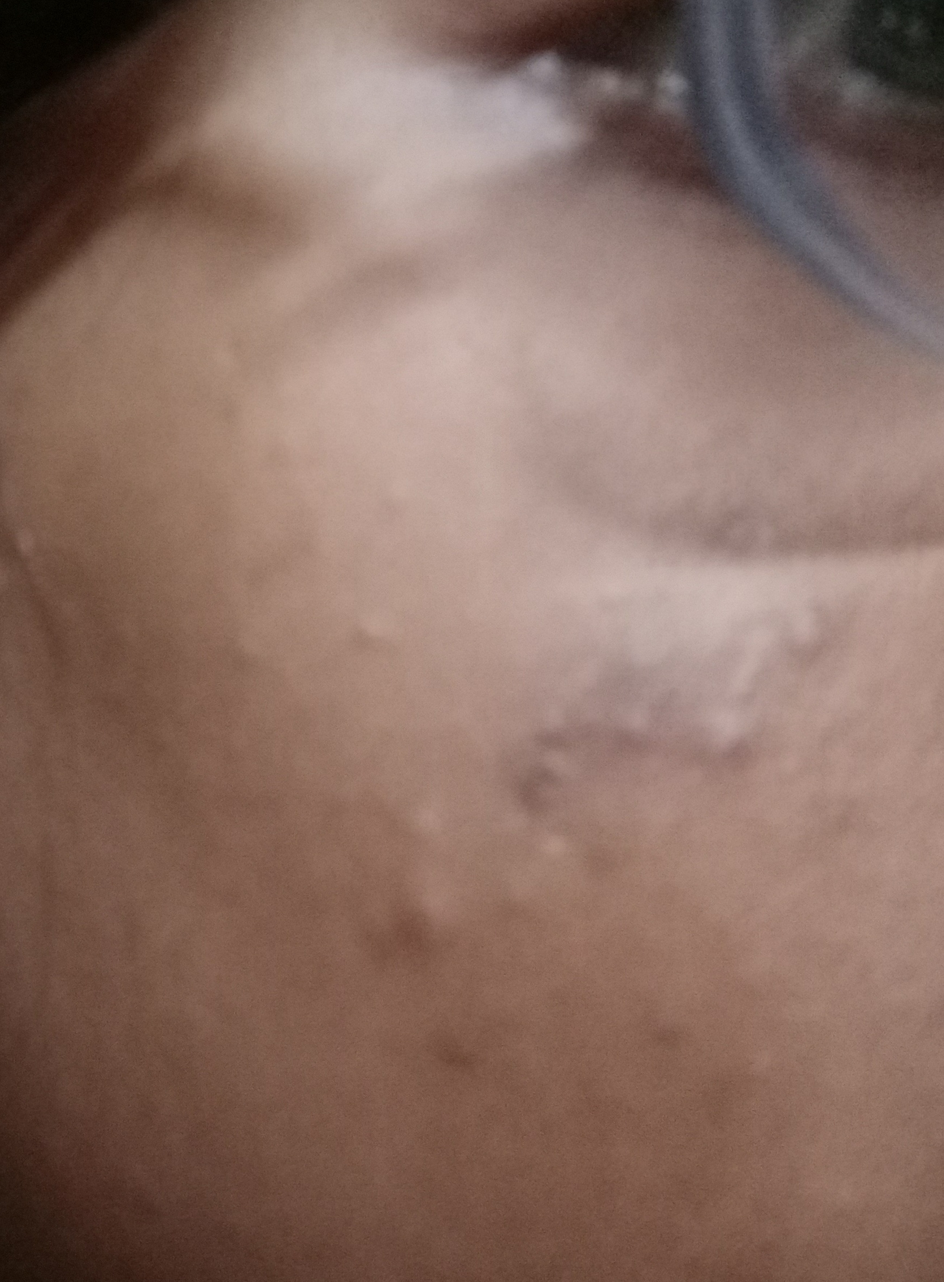papule: (330, 610, 478, 718), (377, 864, 493, 961)
pustule: (667, 670, 772, 780), (506, 727, 607, 839)
